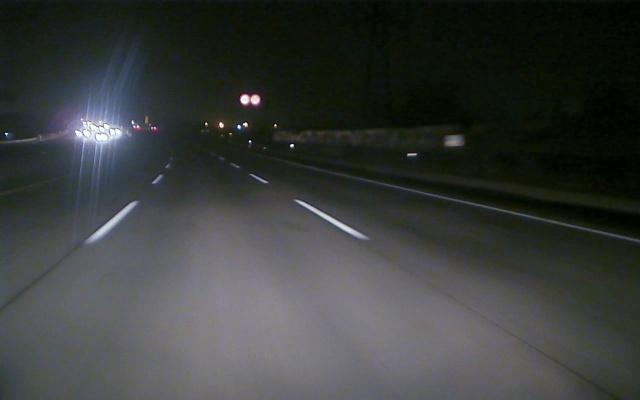lane: (358, 178, 639, 244), (253, 176, 371, 241), (85, 169, 167, 244)
